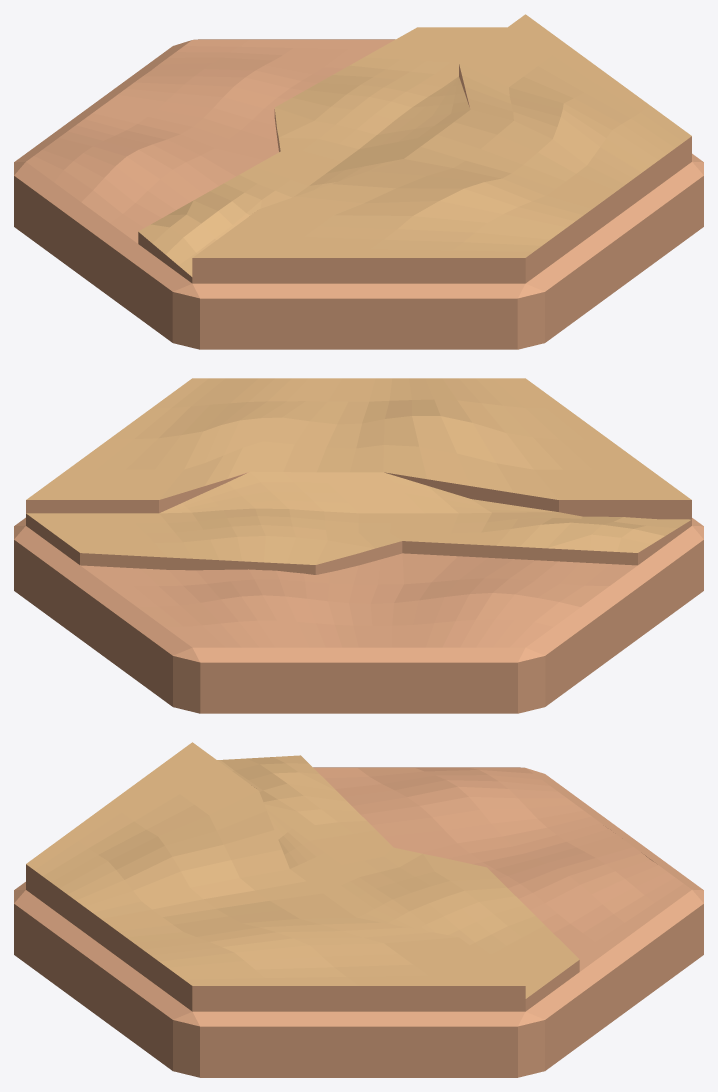
File: sand(1).fbx
3 views of the same model, one above another, from view 1: azimuth 30°, elevation 25°; view 2: azimuth 150°, elevation 25°; view 3: azimuth 270°, elevation 25° (orthographic).
Parts seen in each view (by area): view 1: 柱体.009; view 2: 柱体.009; view 3: 柱体.009.
Boxes of the visible parts, x1=… form: 柱体.009: x1=14, y1=14, x2=703, y2=349; 柱体.009: x1=14, y1=378, x2=703, y2=713; 柱体.009: x1=14, y1=742, x2=703, y2=1077.
Bounding box in the file's own units: 1000 × 174 × 1125.
